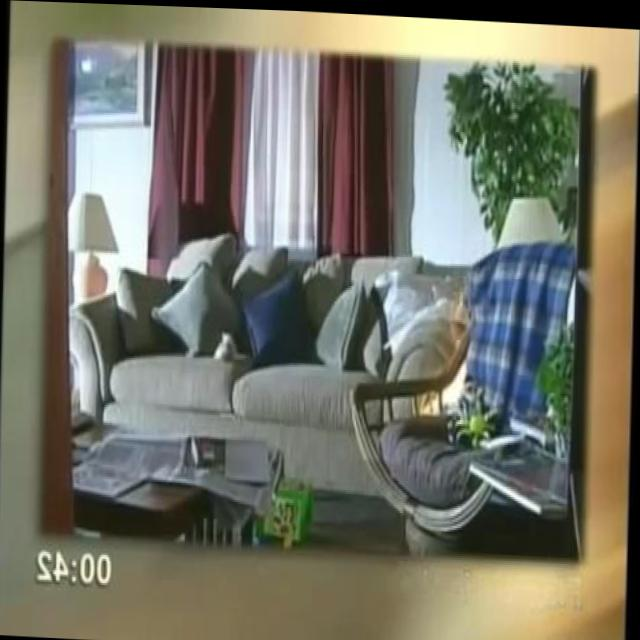fire: (424, 320, 472, 419)
